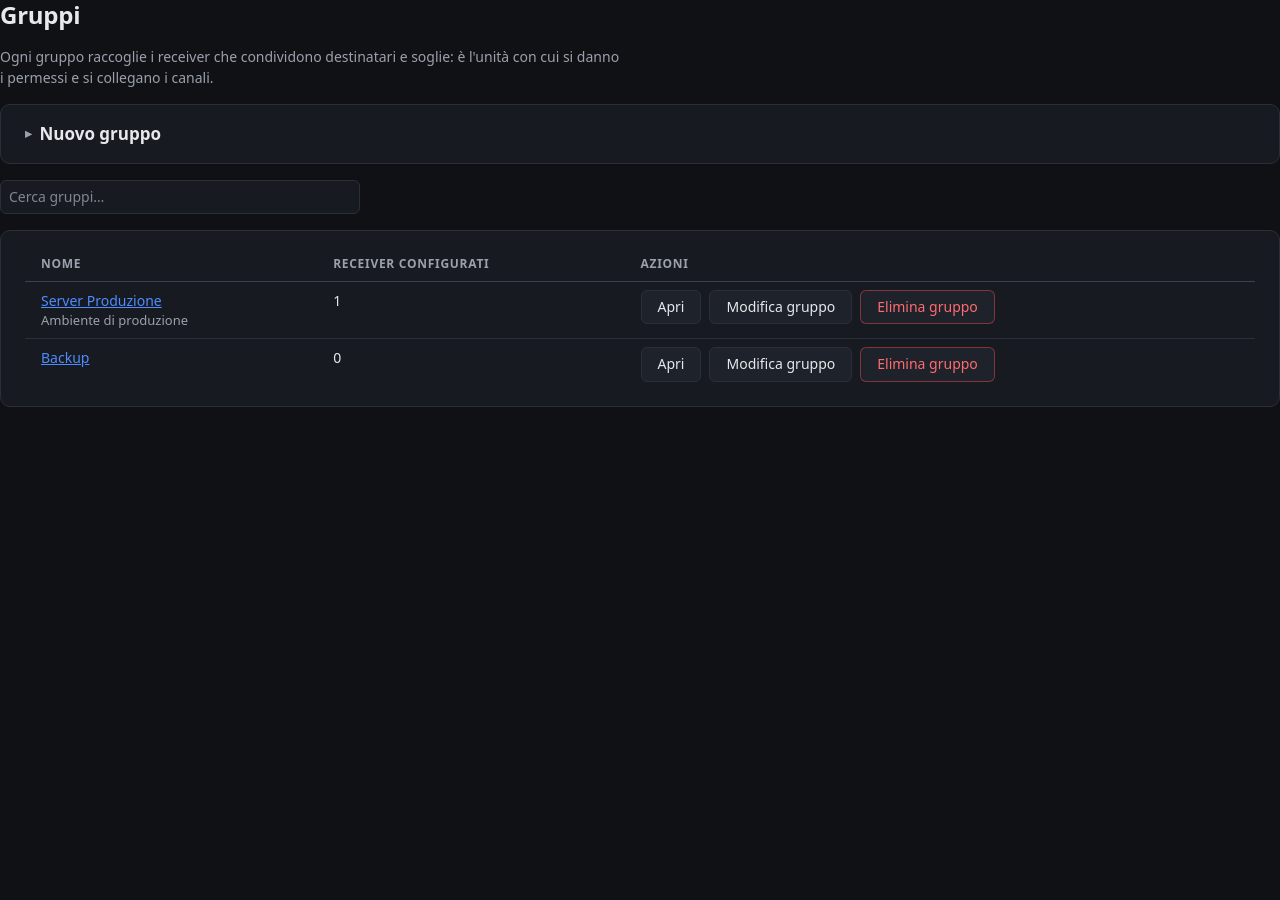
Test case: GroupsPage › T-UI12 test_cancellazione_gruppo_mostra_impatto: mostra i conteggi e richiede il nome esatto
Expected: the link "Server Produzione" is shown, [41,290,162,310]
Click the button "Elimina gruppo" in the row of "Server Produzione" at (928, 307), box [860,290,995,324]
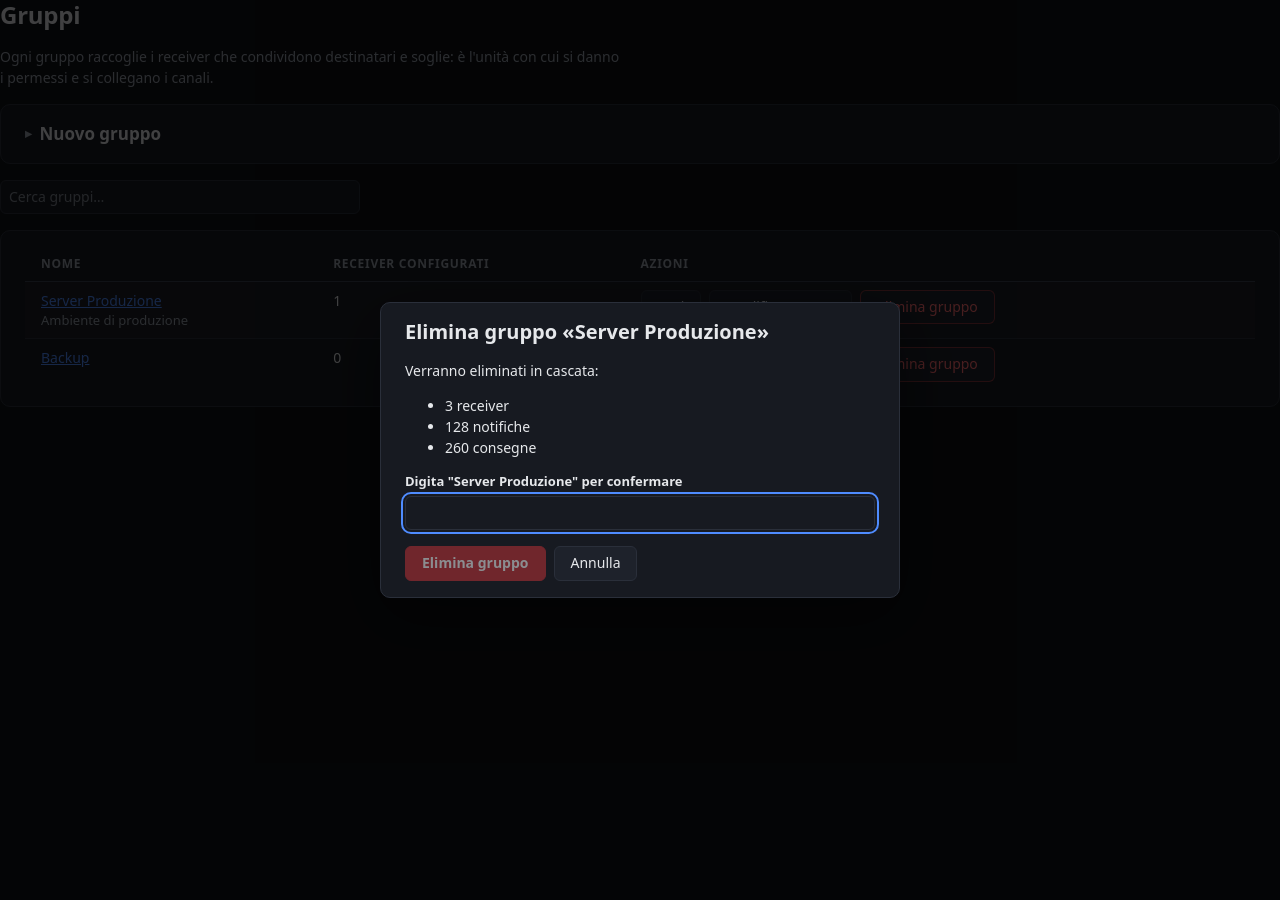
Expected: the list item "3 receiver" is shown, [445,396,509,415]
Expected: the button "Elimina gruppo" is disabled, [405,546,546,581]
Type "Server Produzione" into the field labelled "Digita \"Server Produzione\" per confermare" at (640, 513), box [405,496,875,530]
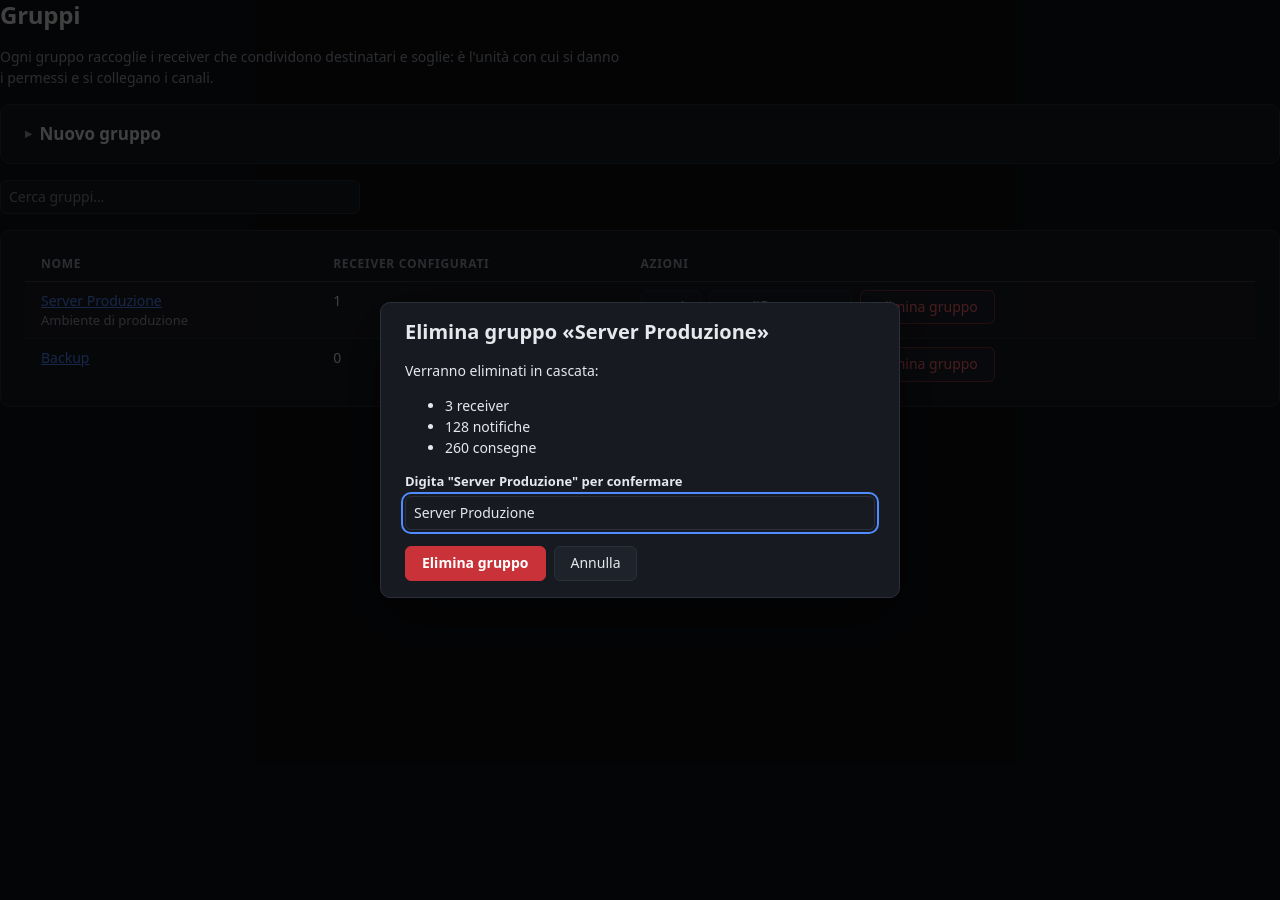
Expected: the button "Elimina gruppo" is enabled, [405,546,546,581]
